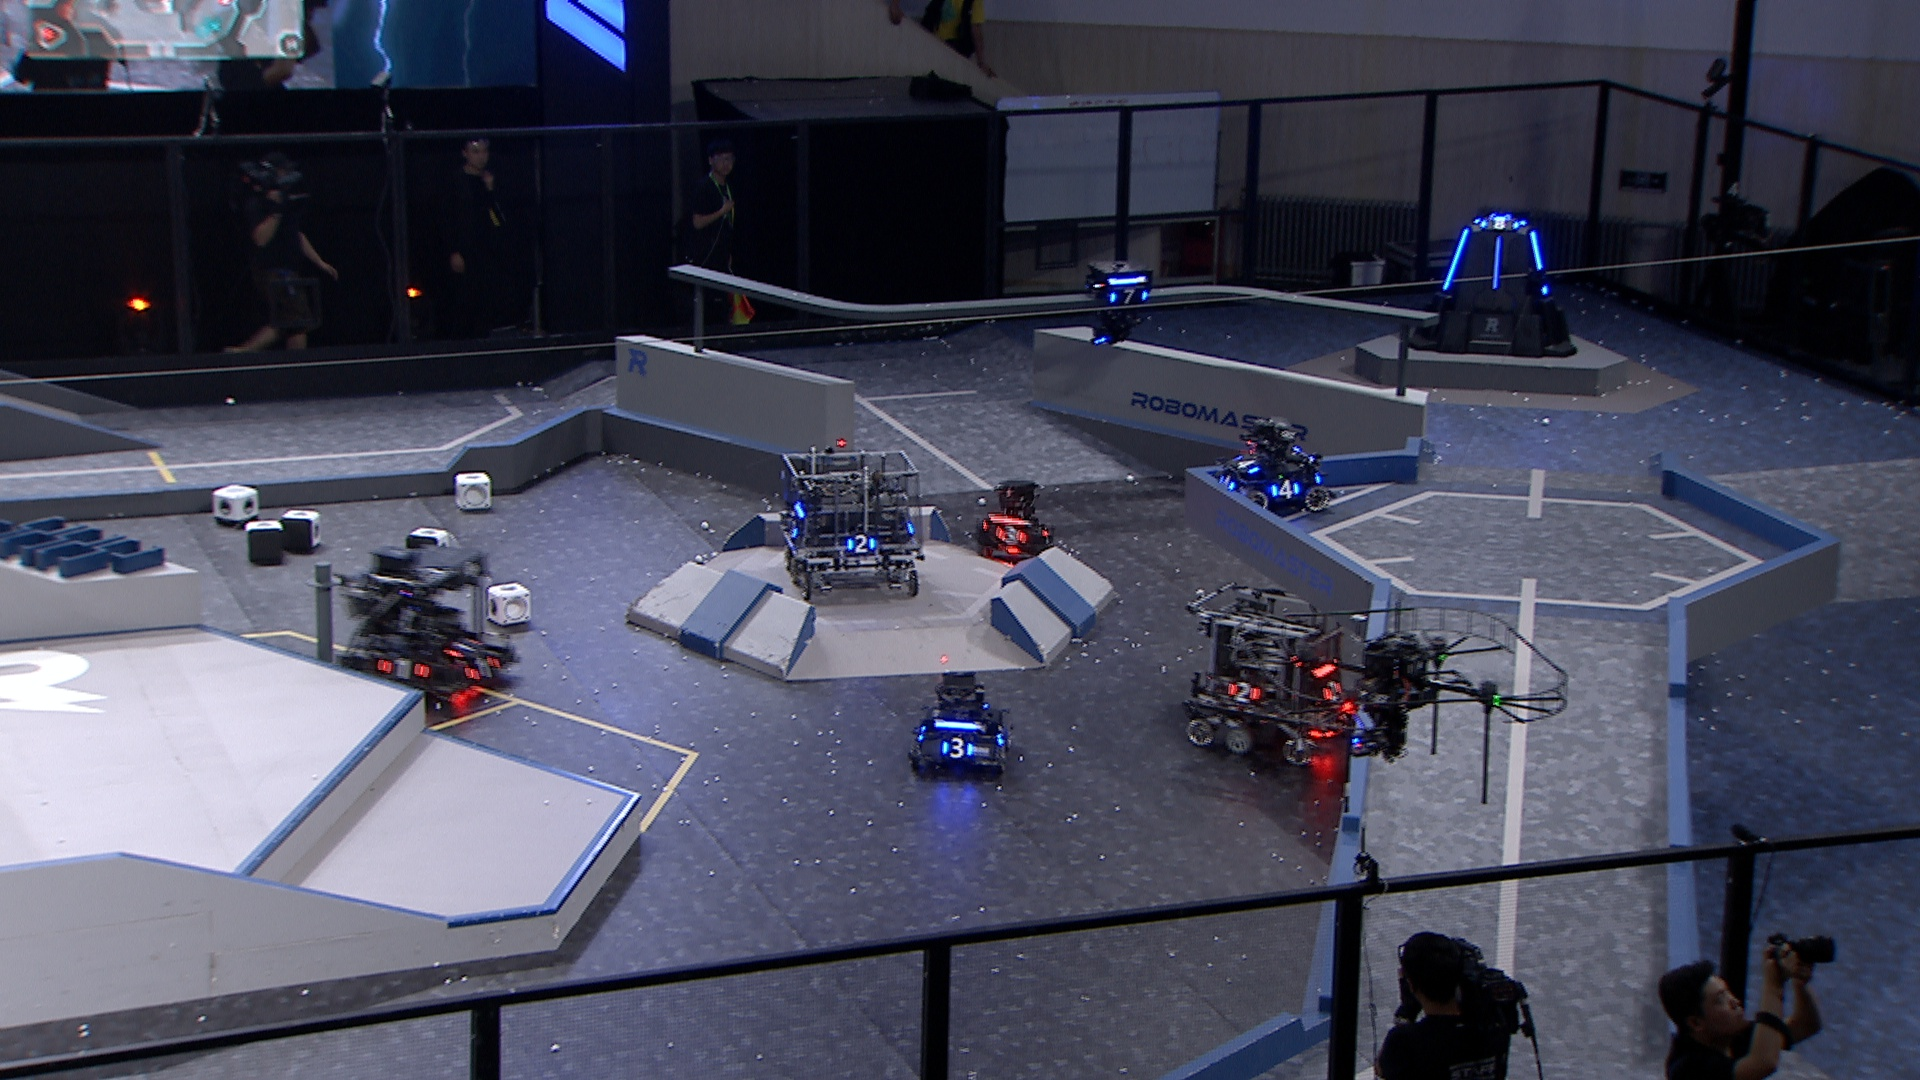armor: (1439, 225, 1472, 294), (1527, 228, 1552, 299), (377, 655, 429, 683), (462, 651, 500, 684), (439, 636, 483, 661), (1487, 233, 1505, 291), (1225, 680, 1265, 705), (993, 524, 1029, 549), (940, 736, 975, 760), (1267, 477, 1302, 501), (1109, 289, 1150, 309), (1477, 215, 1519, 233), (844, 534, 878, 556), (1215, 469, 1240, 493), (1233, 456, 1262, 475), (1321, 680, 1344, 702), (783, 518, 802, 538)
base: (1404, 210, 1581, 360)
car: (342, 531, 517, 713), (1182, 576, 1349, 764), (775, 444, 928, 599), (1204, 415, 1337, 516), (906, 670, 1021, 782), (963, 475, 1055, 559)
watcher: (1081, 257, 1154, 348)
